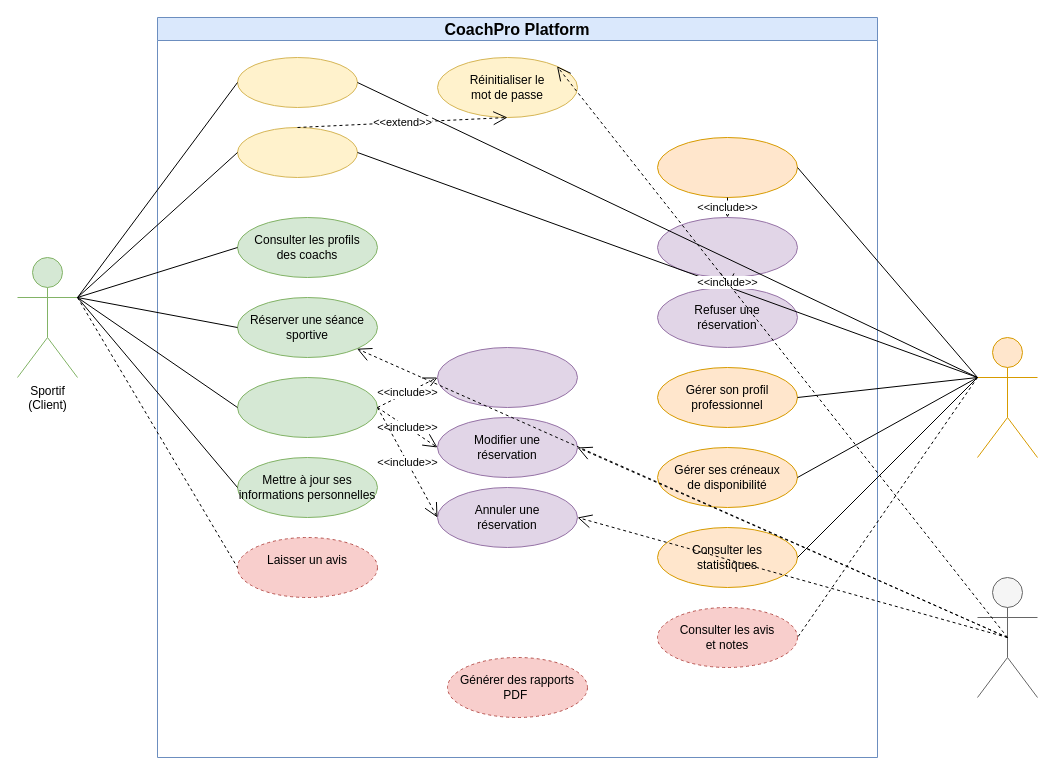
Image size: 1055x775. Some labels were removed from this diagram. The shapes that lost their labels are listed below. From the top down, each one's centre as x and y in pixels, then its label:
At pixel 297 82: "S'inscrire".
At pixel 297 152: "Se connecter".
At pixel 727 167: "Gérer les demandes de séances".
At pixel 727 247: "Accepter une réservation".
At pixel 507 377: "Consulter l'historique des séances".
At pixel 1007 397: "Coach Sportif".
At pixel 307 407: "Gérer ses réservations".
At pixel 1007 637: "Système Email".
